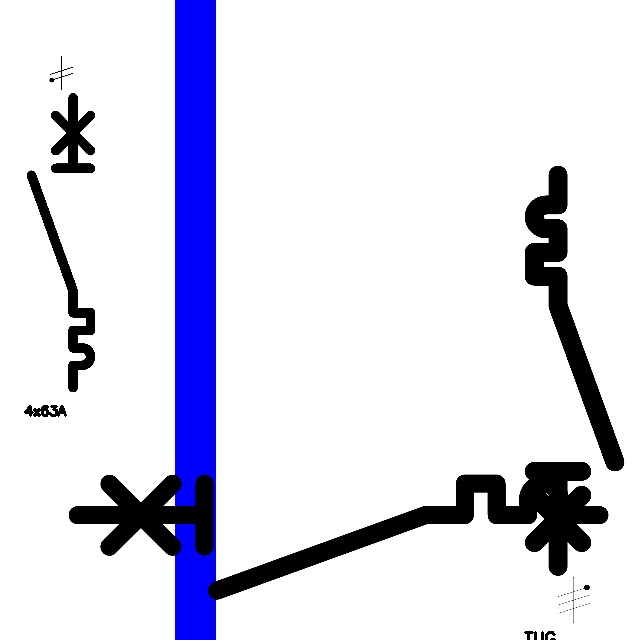interruptor_termomagnetico: (64, 470, 613, 604), (524, 165, 625, 577), (24, 90, 98, 395)
